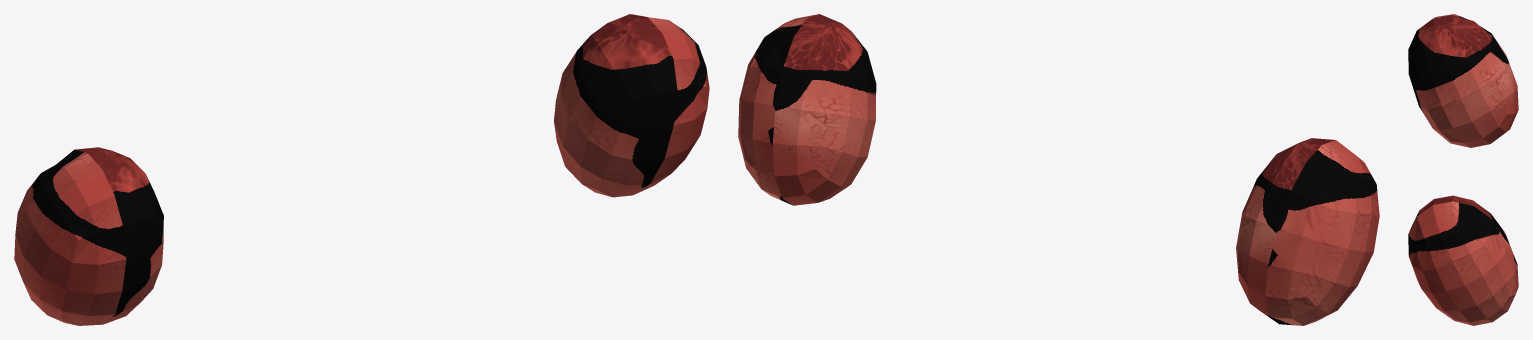
Rendered from LastVersionUteroblend.obj.
3 views of the same model, side by side, from view 1: azimuth 30°, elevation 25°; view 2: azimuth 150°, elevation 25°; view 3: azimuth 270°, elevation 25° (orthographic). The views are drawn at different scales.
Size of the model in its own units: 1.88 by 0.489 by 0.3936.
